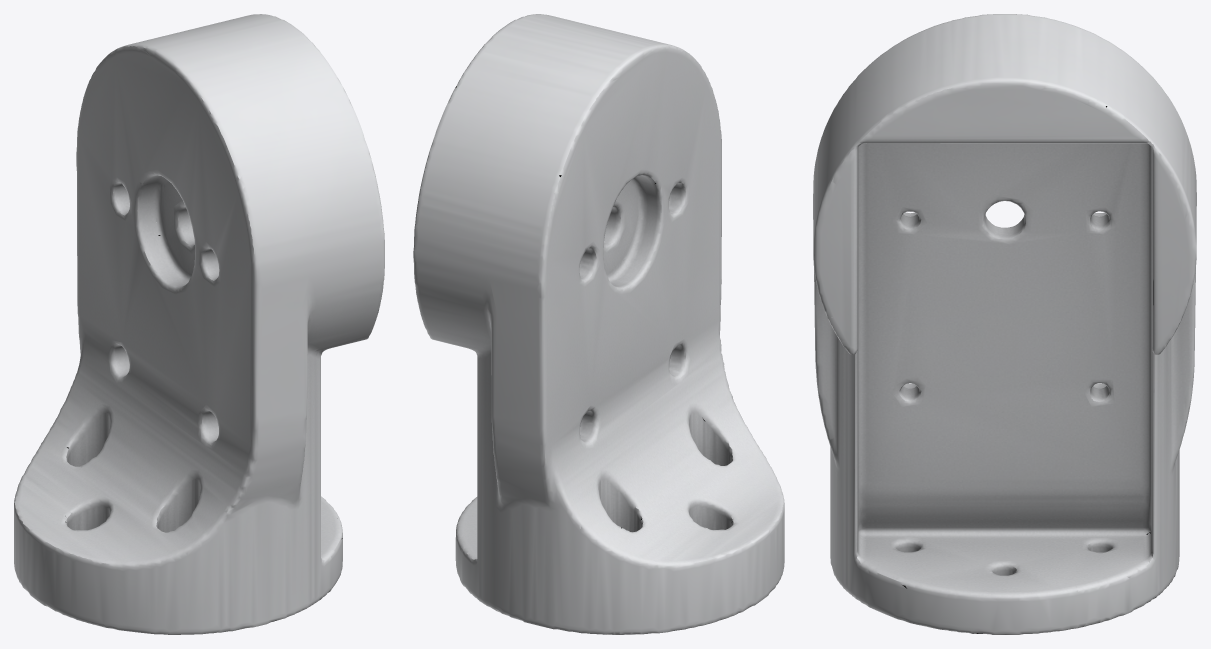
The model's file is right_shoulder.obj.
3 views of the same model, side by side, from view 1: azimuth 30°, elevation 25°; view 2: azimuth 150°, elevation 25°; view 3: azimuth 270°, elevation 25° (orthographic). The views are drawn at different scales.
Visible parts, largest first — view 1: right_shoulder; view 2: right_shoulder; view 3: right_shoulder.
Boxes of the visible parts, x1,y1,x2,y2 form: right_shoulder: (14,14,384,634); right_shoulder: (413,14,784,634); right_shoulder: (813,14,1196,634).
Size of the model in its own units: 0.0615 by 0.1057 by 0.0677.
Materials: 1 (1 with a texture image).
